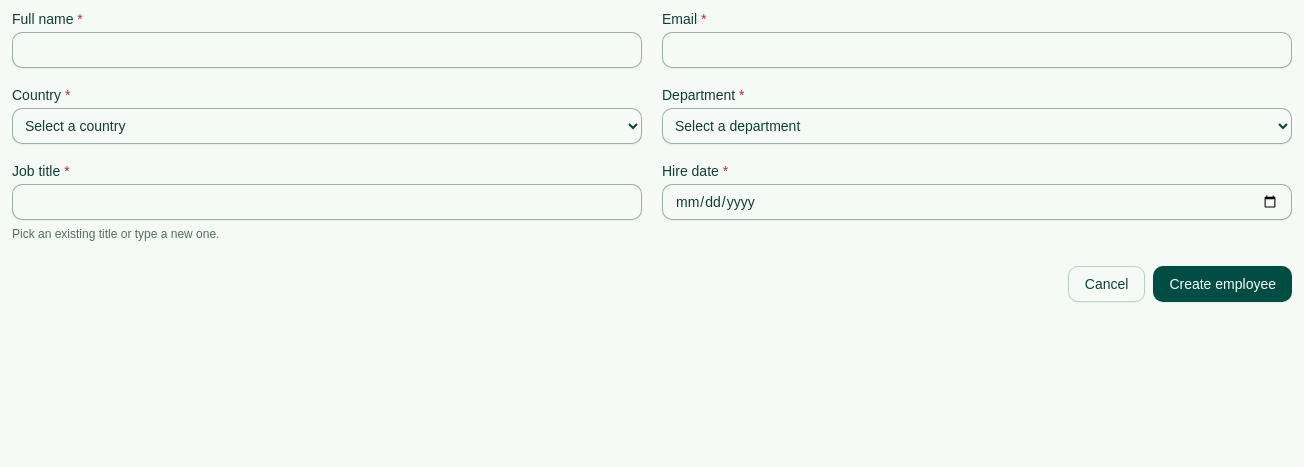
Test case: EmployeeForm › blocks an empty submit, explains every problem and focuses the first invalid field
Click the button "Create employee".
click(1223, 284)  # box [1153, 266, 1292, 302]
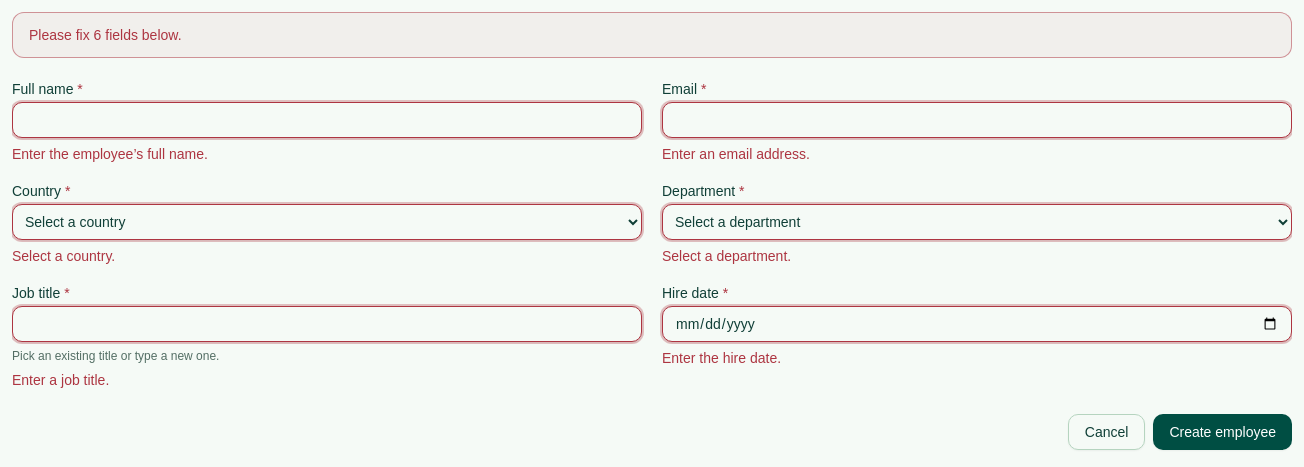
Result: the message reads "Please fix 6 fields below." at [29, 27, 182, 43]
